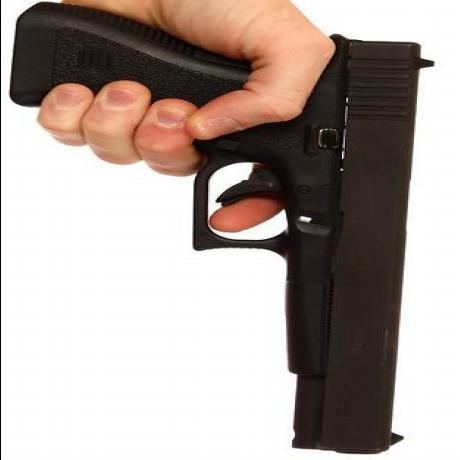1: (36, 0, 336, 232)
weapon: (192, 33, 436, 456)
